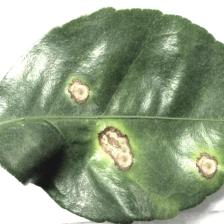canker: (61, 71, 220, 203)
